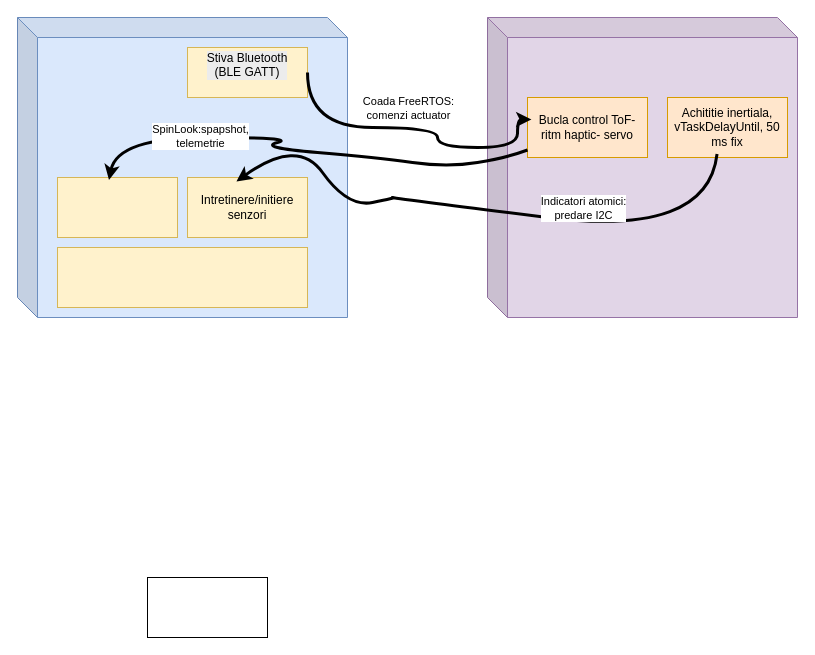
The diagram is 815 pixels wide and 655 high, and some of its shapes have lost their labels. The centre of each missing label's shape, as x and y in pixels:
"Debug (consola seriala-activa la cerere)" goes at point (182, 277).
"Telemetrie Periodica" goes at point (117, 207).
